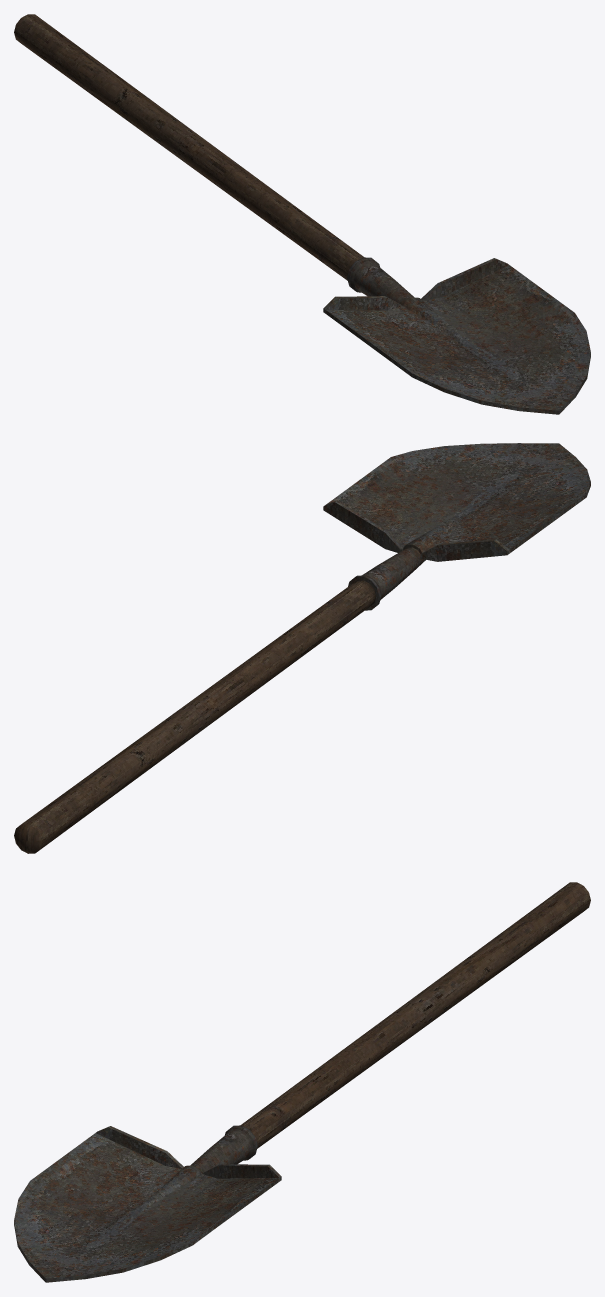
Rendered from shovel_mx_1.glb.
The picture shows the model from 3 angles, top to bottom: view 1: azimuth 30°, elevation 25°; view 2: azimuth 150°, elevation 25°; view 3: azimuth 330°, elevation 25°; orthographic projection.
Parts seen in each view (by area): view 1: shovel_mx_1; view 2: shovel_mx_1; view 3: shovel_mx_1.
Boxes of the visible parts, x1,y1,x2,y2 form: shovel_mx_1: (14,14,590,414); shovel_mx_1: (14,443,590,853); shovel_mx_1: (14,882,590,1282).
Size of the model in its own units: 0.39 by 0.1044 by 1.96.
Materials: 1 (1 with a texture image).
